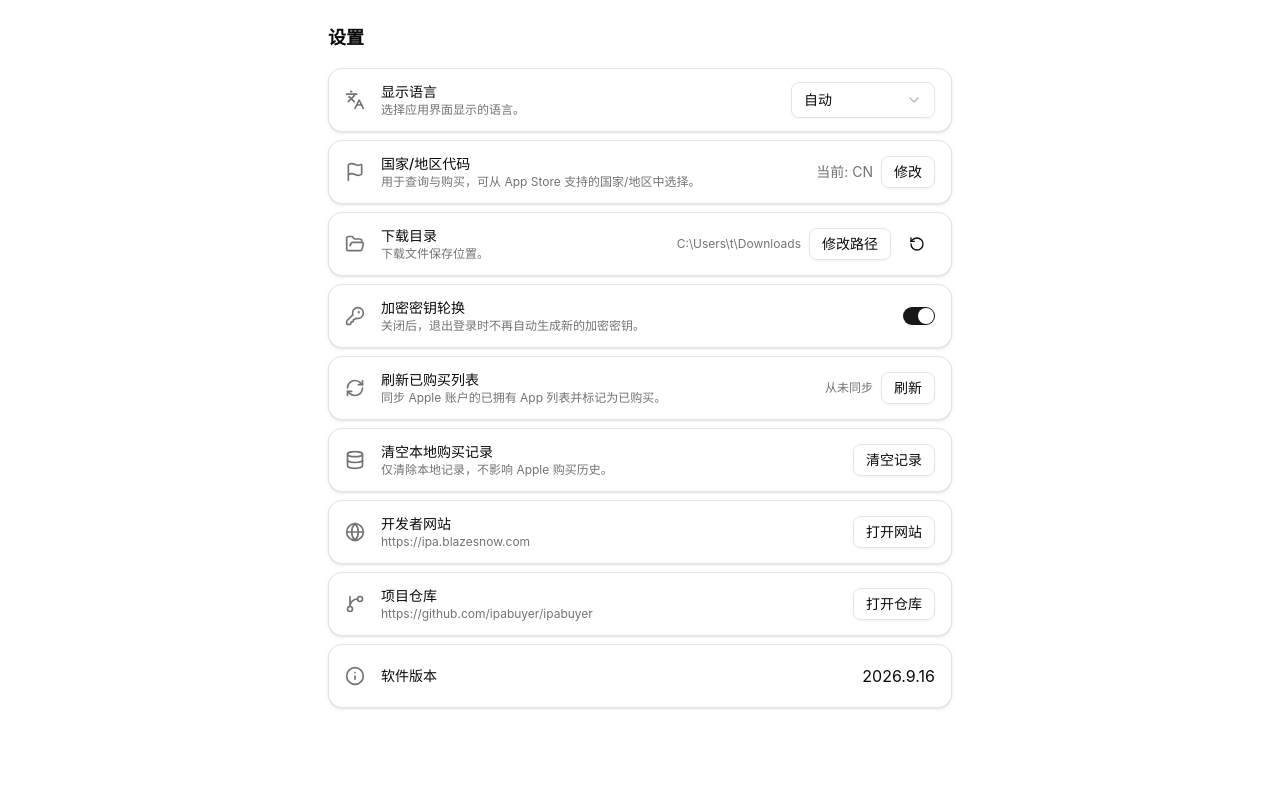
Scenario: SettingsPage › 国家码搜索无匹配时显示空状态
The image size is (1280, 800).
Expected: the text "国家/地区代码" is shown, 381,155 -> 470,172
Click the button "修改" at (908, 172), box 881,156 -> 935,188
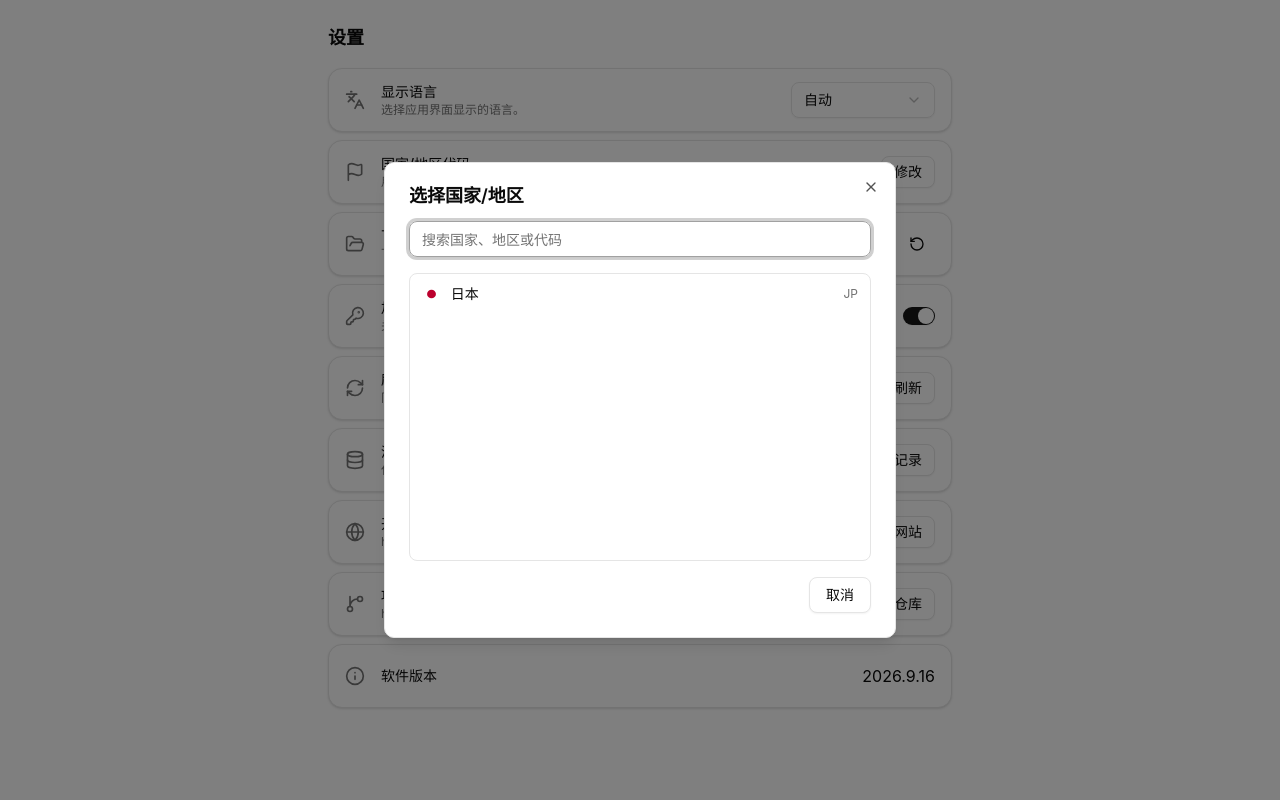
Expected: the heading "选择国家/地区" is shown, 409,185 -> 524,206
Type "zzz" into the field with placeholder "搜索国家、地区或代码" at (640, 239), box 409,221 -> 871,257
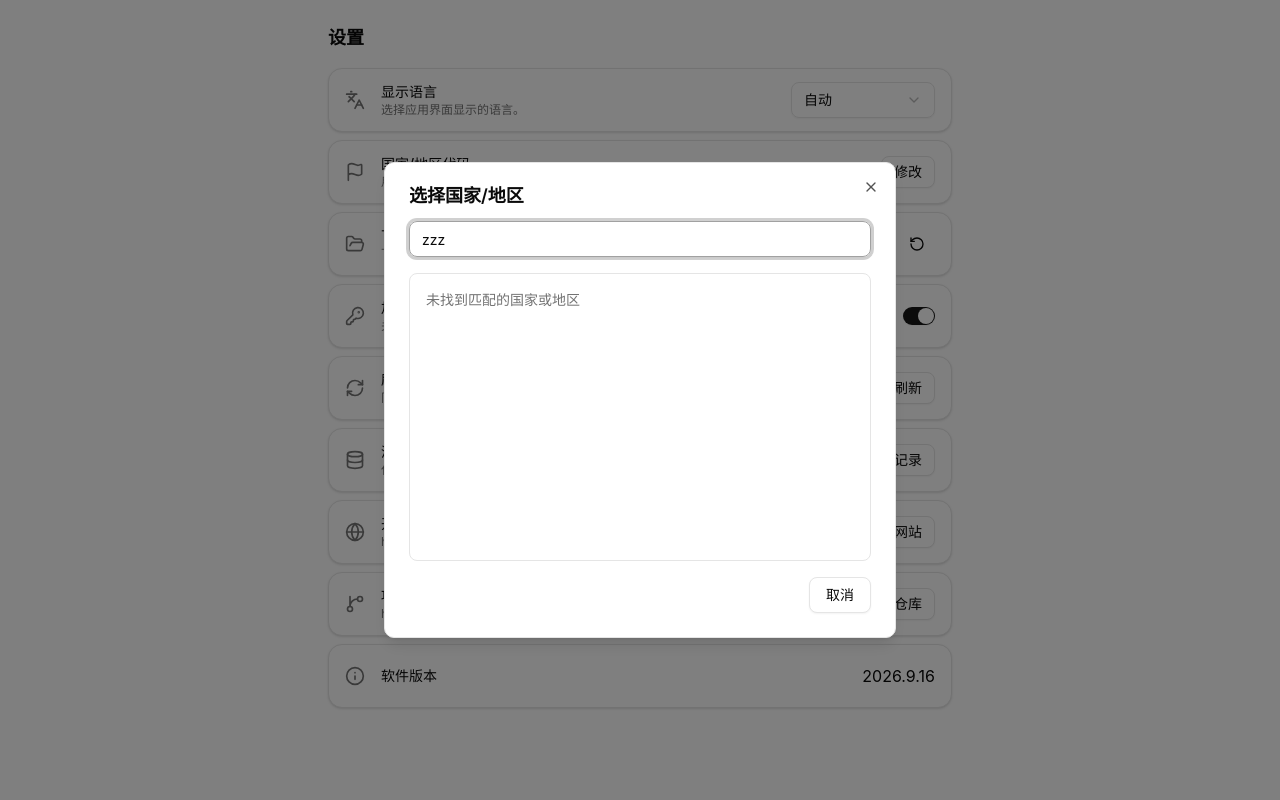
Expected: the text "未找到匹配的国家或地区" is shown, 426,291 -> 580,308
